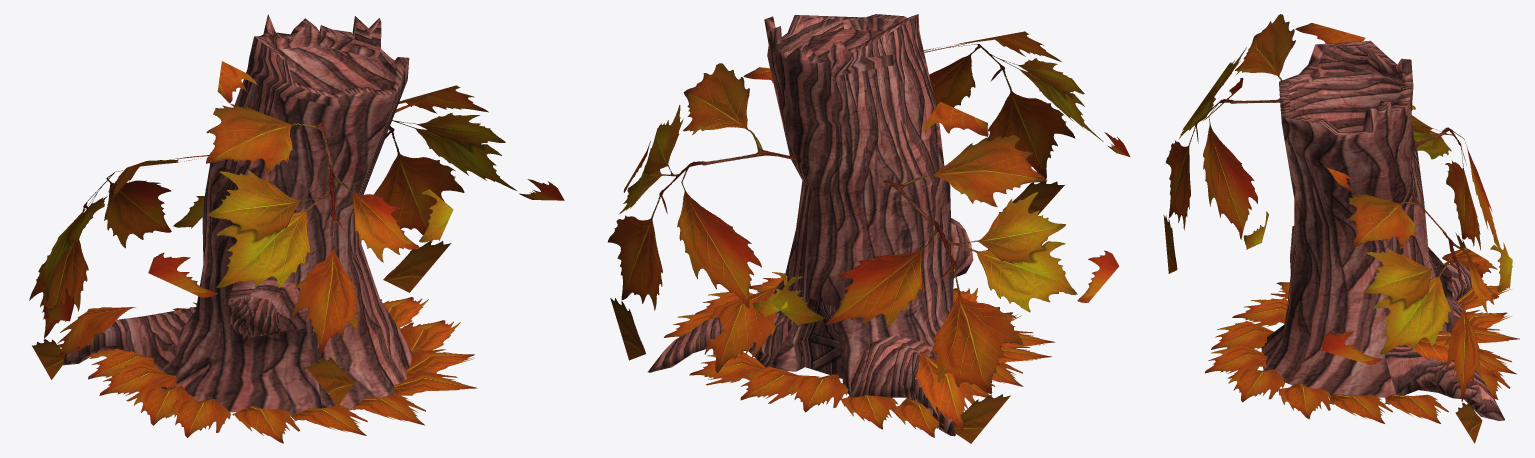
Rendered from tree_house2.fbx.
3 renders of one model, left to right at view 1: azimuth 30°, elevation 25°; view 2: azimuth 150°, elevation 25°; view 3: azimuth 270°, elevation 25°, orthographic. The views are drawn at different scales.
Parts seen in each view (by area): view 1: U3DMesh; view 2: U3DMesh; view 3: U3DMesh.
Boxes of the visible parts, x1,y1,x2,y2 form: U3DMesh: (29, 14, 564, 443); U3DMesh: (608, 14, 1130, 443); U3DMesh: (1163, 14, 1519, 443).
Size of the model in its own units: 48.45 by 32.93 by 34.74.
Materials: 3 (3 with a texture image).
